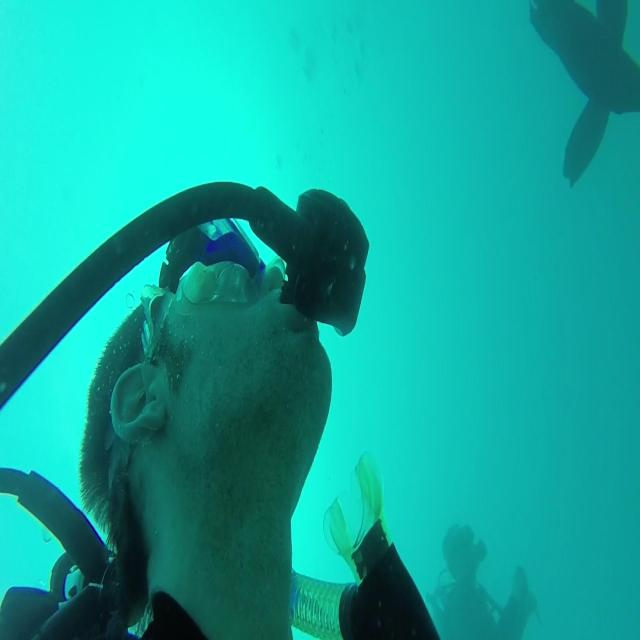human: (1, 182, 441, 638), (426, 522, 538, 638)
